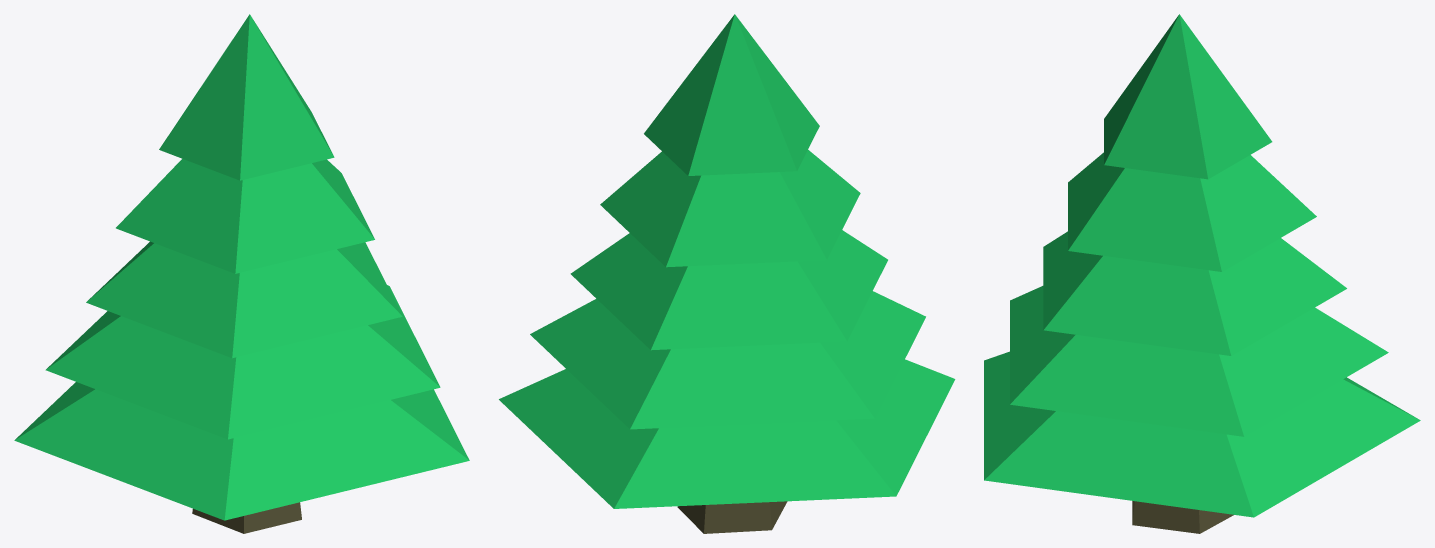
File: pine Tree.fbx
3 renders of one model, left to right at view 1: azimuth 30°, elevation 25°; view 2: azimuth 150°, elevation 25°; view 3: azimuth 270°, elevation 25°, orthographic.
Parts seen in each view (by area): view 1: Cone.004, Cone.003, Cone.002, Cone.001, Cone, Cylinder; view 2: Cone.004, Cone.003, Cone.002, Cone.001, Cone, Cylinder; view 3: Cone.004, Cone.003, Cone.002, Cone.001, Cone, Cylinder.
Boxes of the visible parts, x1=… form: Cone.004: x1=14, y1=382, x2=469, y2=520; Cone.003: x1=45, y1=285, x2=440, y2=439; Cone.002: x1=86, y1=241, x2=402, y2=358; Cone.001: x1=116, y1=159, x2=374, y2=273; Cone: x1=159, y1=14, x2=334, y2=180; Cylinder: x1=192, y1=502, x2=301, y2=533; Cone.004: x1=499, y1=359, x2=955, y2=508; Cone.003: x1=530, y1=291, x2=925, y2=429; Cone.002: x1=570, y1=230, x2=887, y2=350; Cone.001: x1=600, y1=150, x2=860, y2=267; Cone: x1=644, y1=14, x2=819, y2=175; Cylinder: x1=677, y1=501, x2=787, y2=533; Cone.004: x1=984, y1=351, x2=1420, y2=517; Cone.003: x1=1010, y1=286, x2=1388, y2=436; Cone.002: x1=1043, y1=231, x2=1346, y2=355; Cone.001: x1=1068, y1=152, x2=1316, y2=271; Cone: x1=1104, y1=14, x2=1272, y2=179; Cylinder: x1=1132, y1=501, x2=1233, y2=533.
Bounding box in the file's own units: 651 × 777 × 619.
